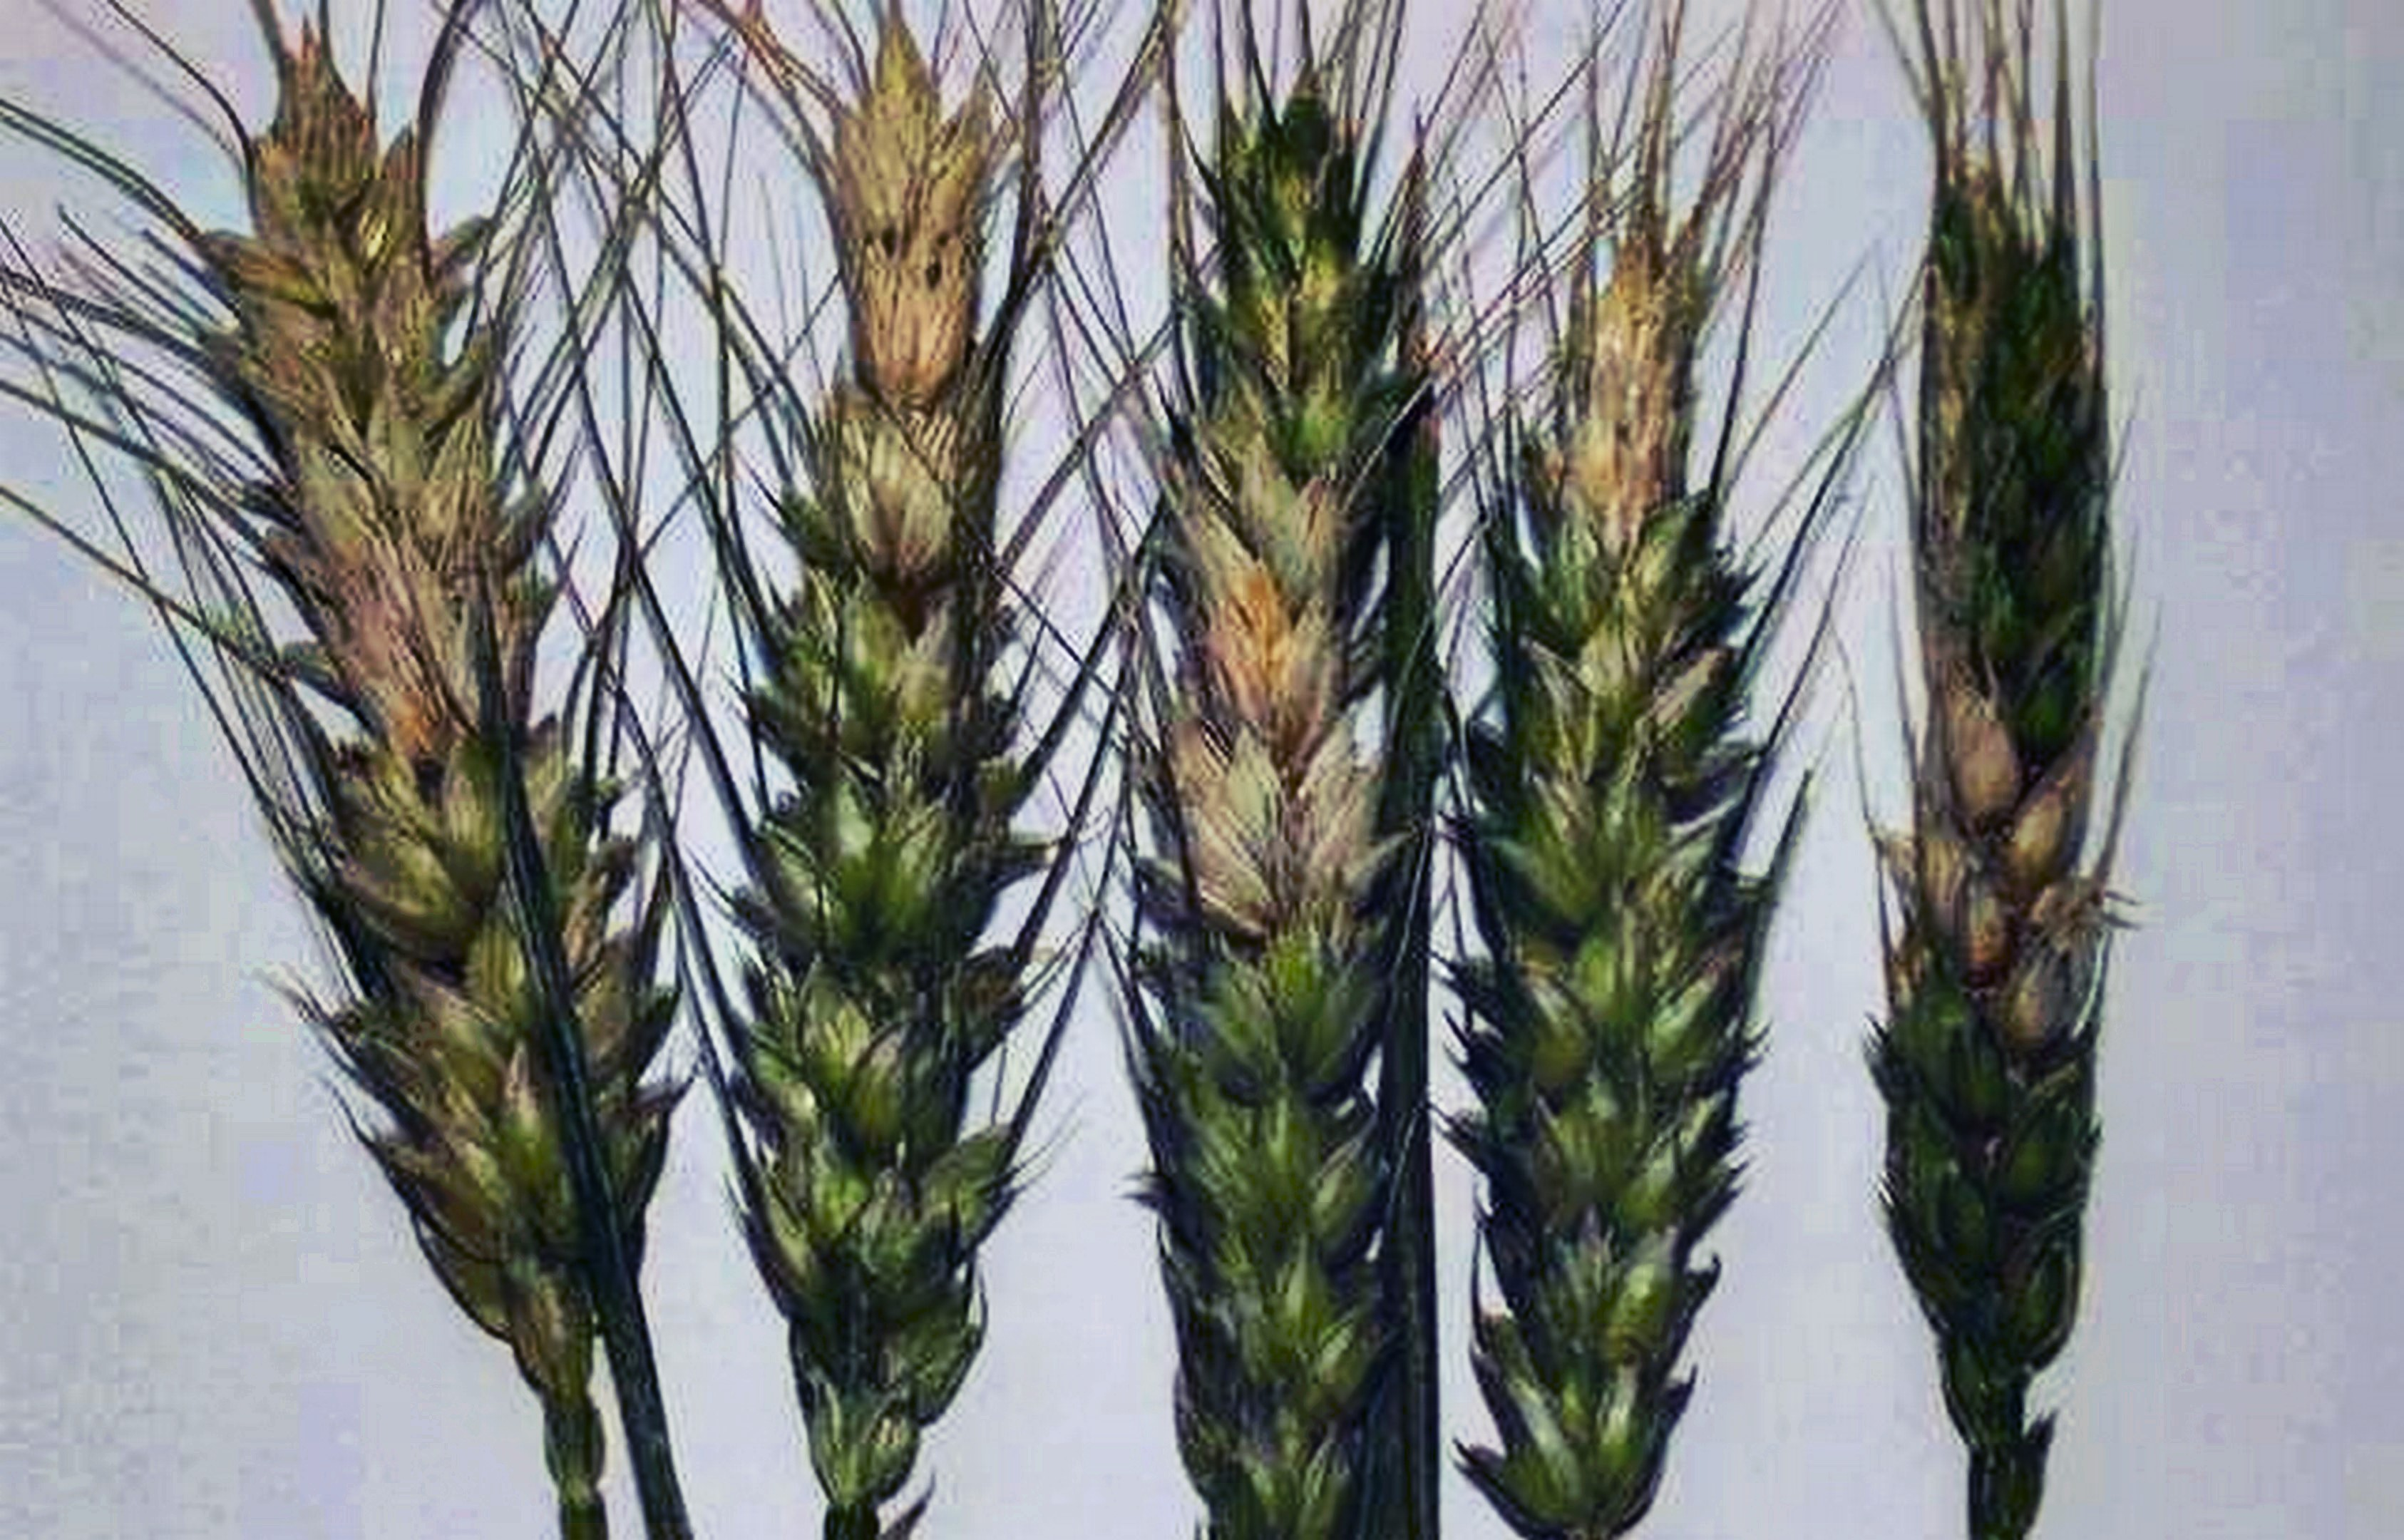Wheat scab: (1050, 116, 1496, 1503)
